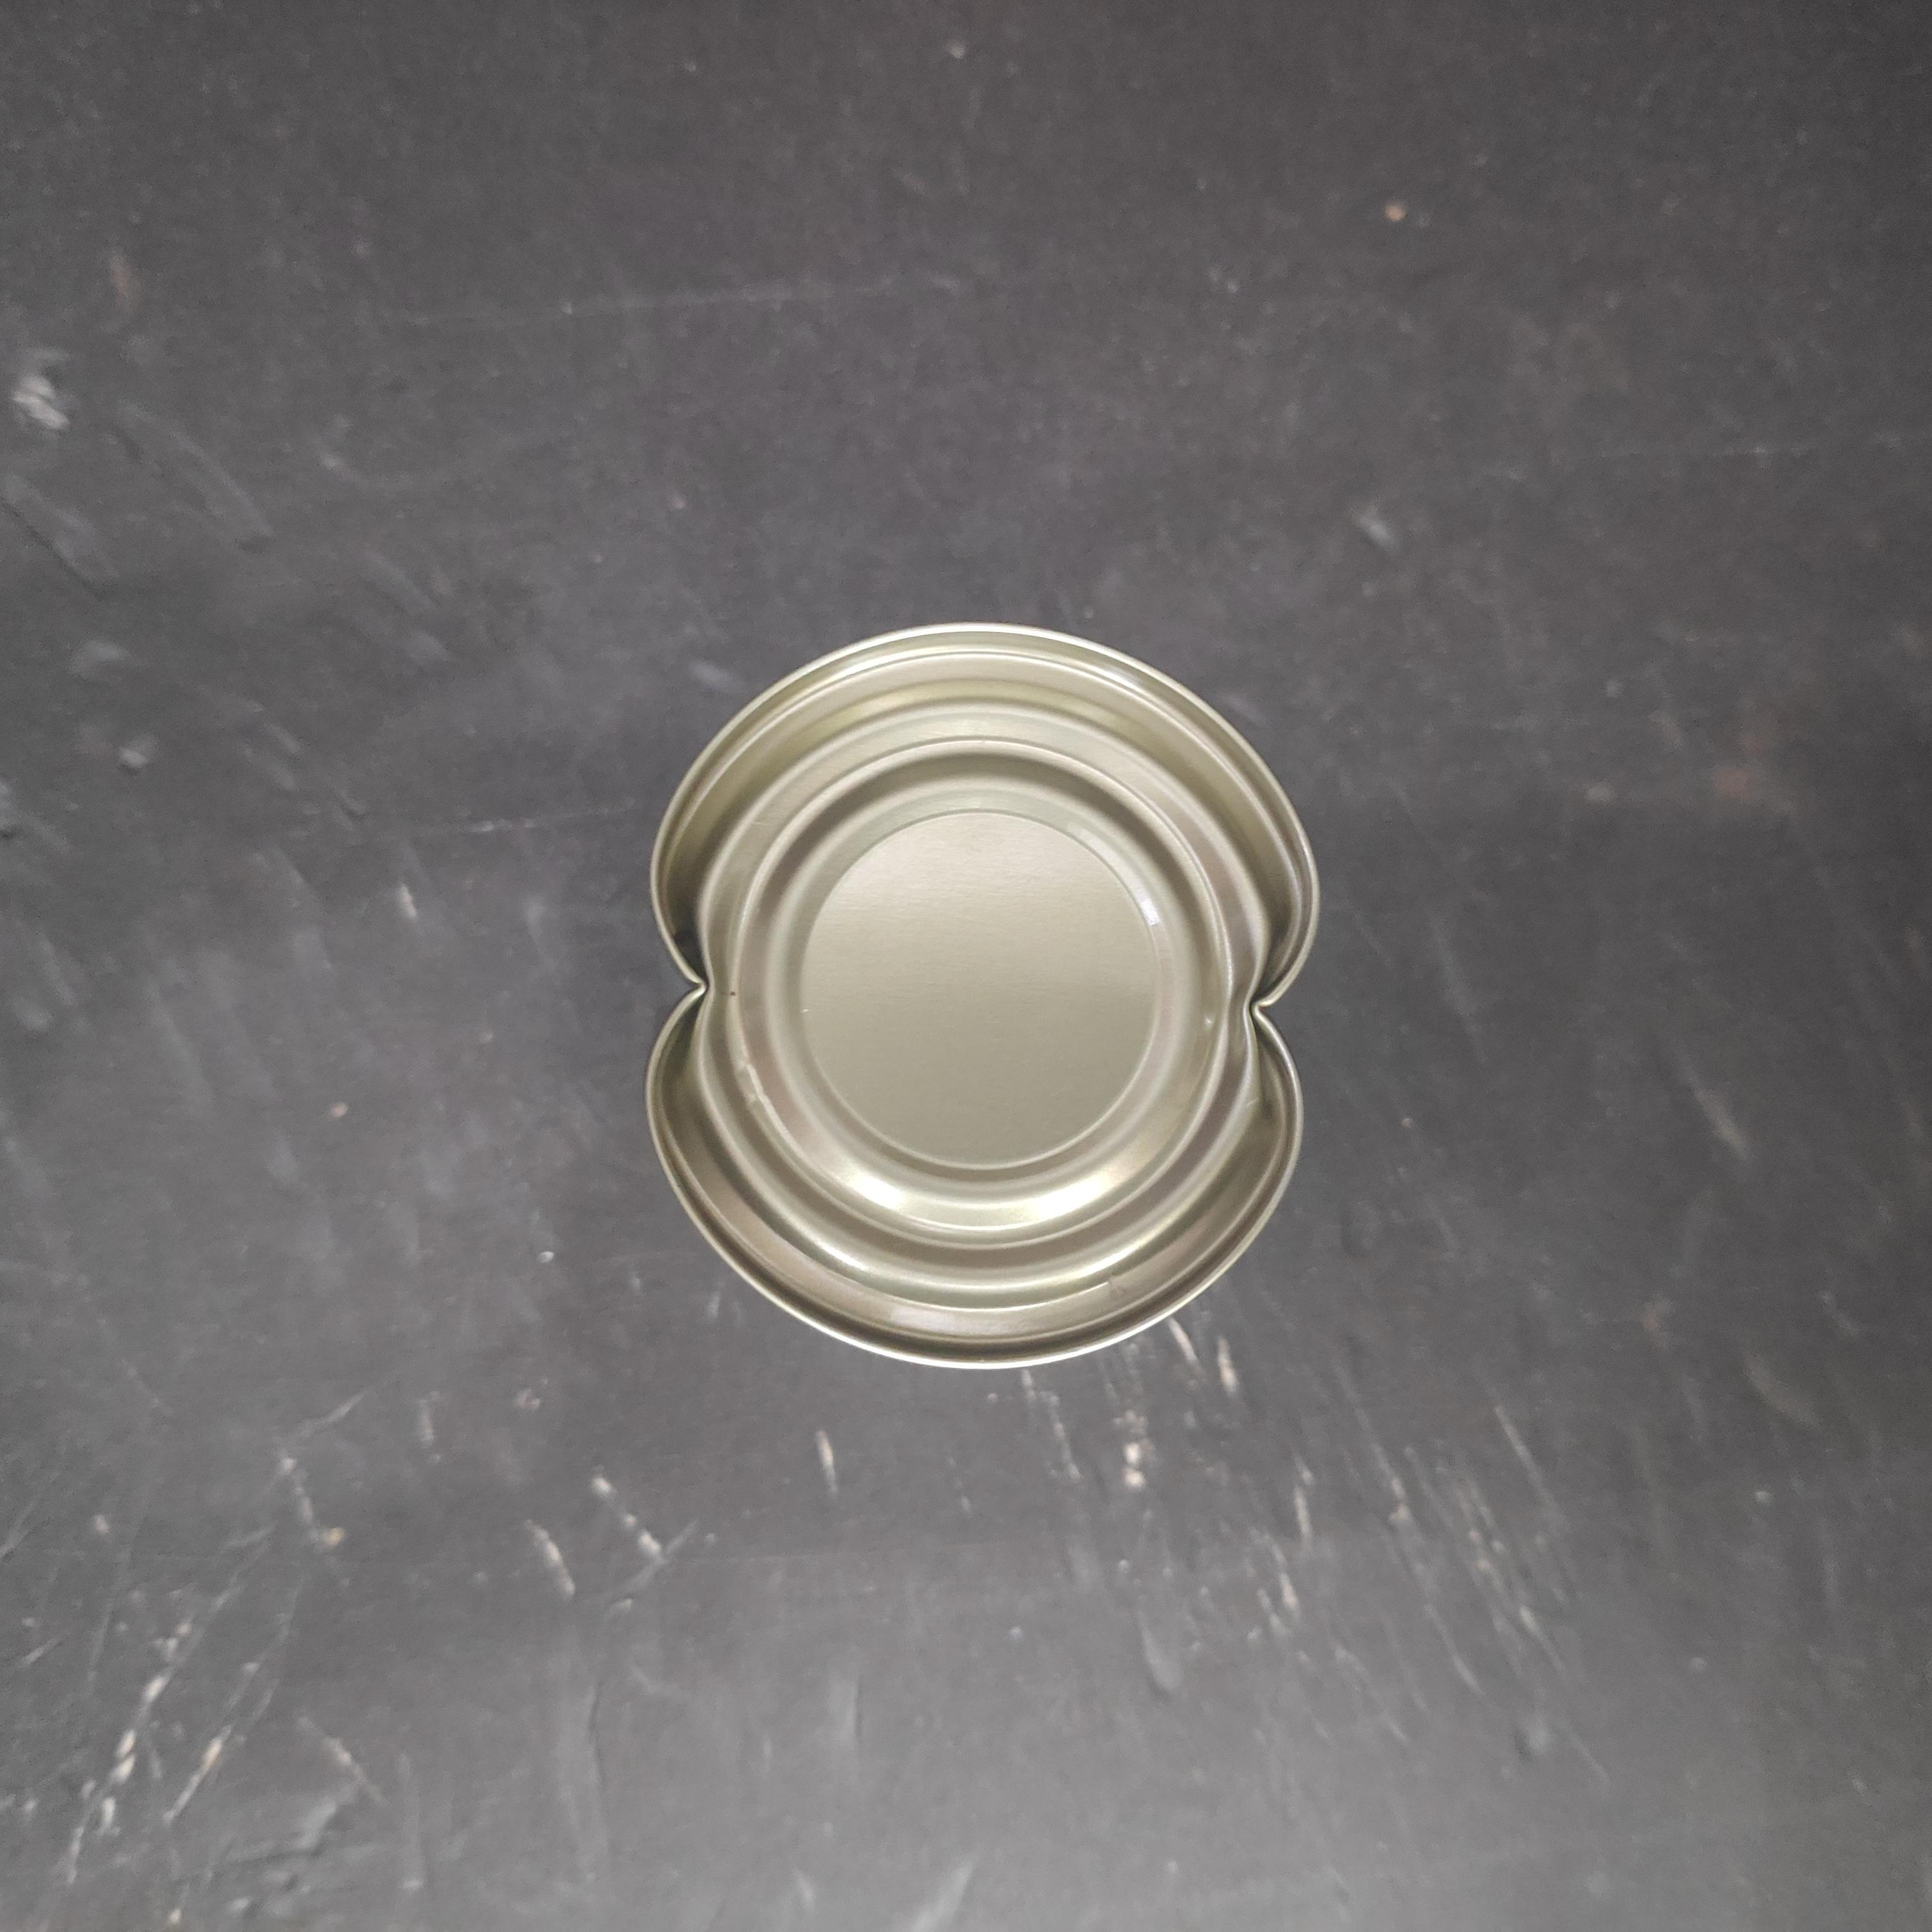Critical Defect: (547, 637, 1320, 1329)
